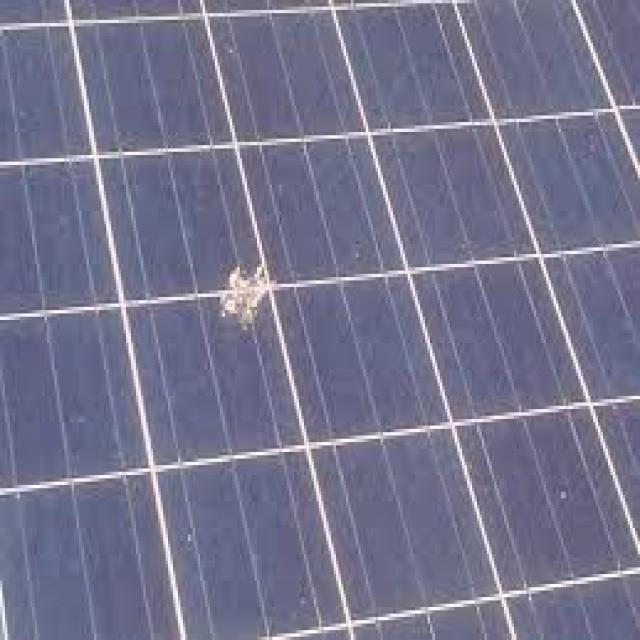Surface Contaminant: (210, 250, 280, 341)
